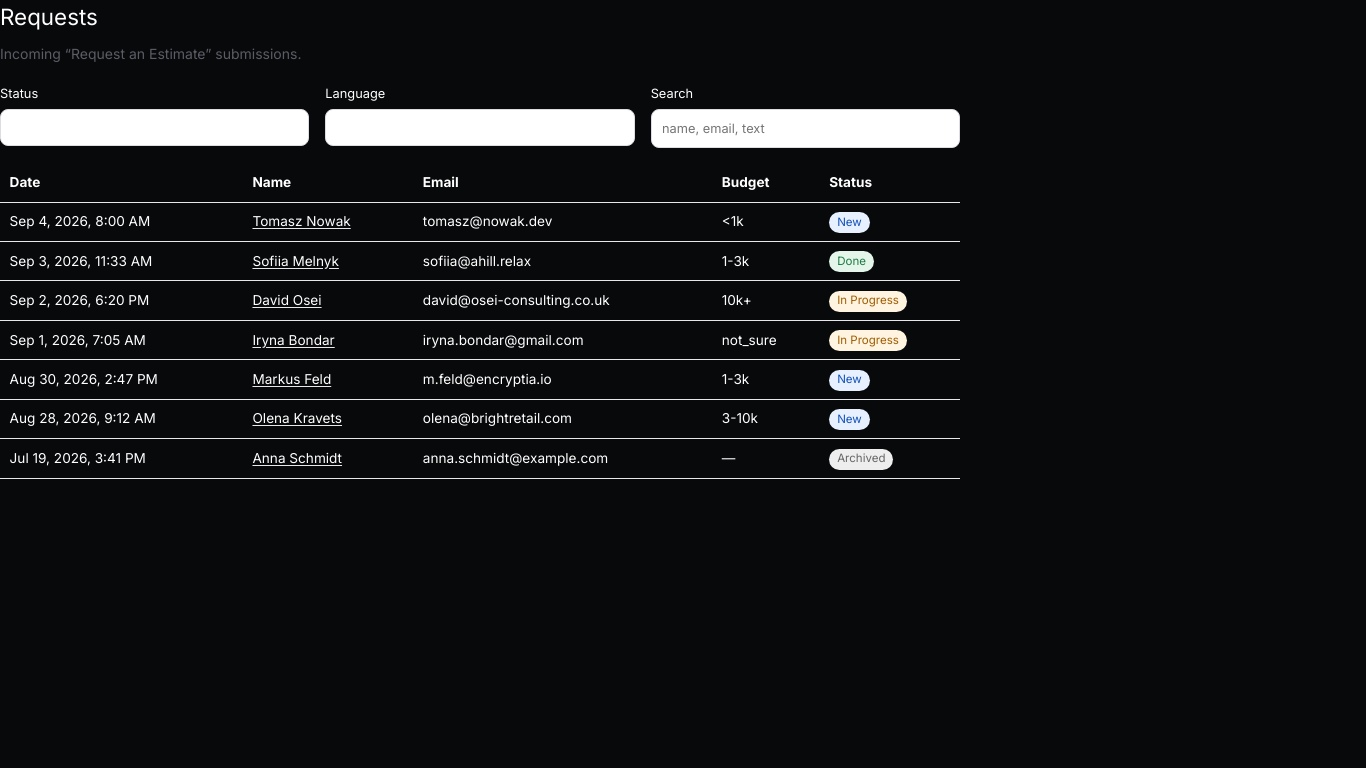
RequestsPage › shows an error state when notes fail to load
Click the button "Olena Kravets" at (328, 419), box [252,408,404,430]
(page scrolled)
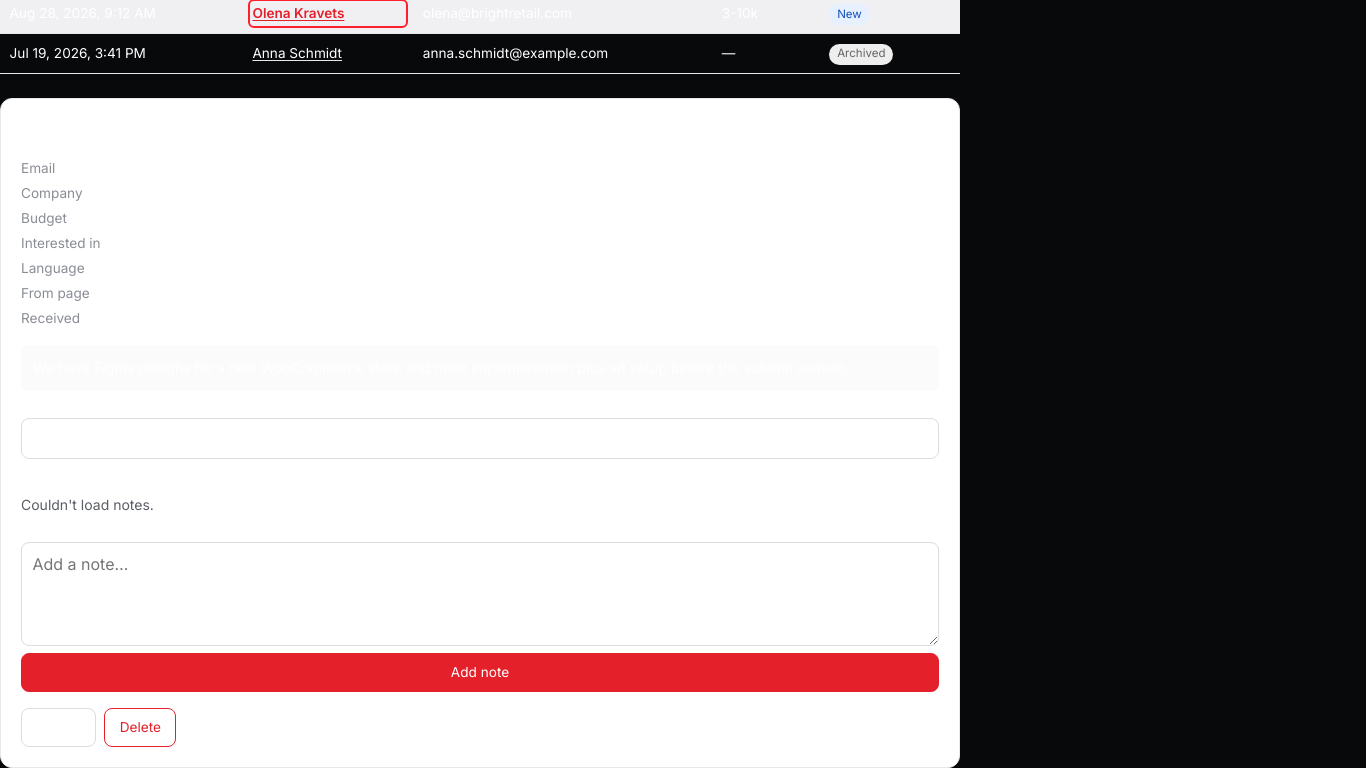
Expected: the text "Couldn't load notes." is shown, [21,496,154,513]
